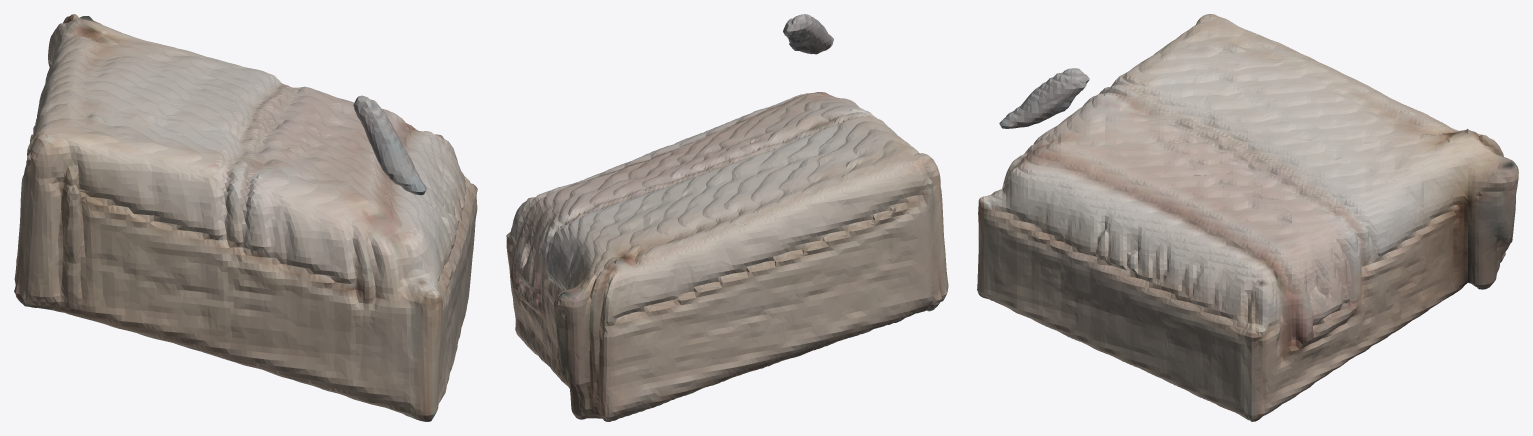
The model's file is asa-nx-queen-bed-with-hydraulic-strge.glb.
3 renders of one model, left to right at view 1: azimuth 30°, elevation 25°; view 2: azimuth 150°, elevation 25°; view 3: azimuth 270°, elevation 25°, orthographic. The views are drawn at different scales.
Visible parts, largest first — view 1: orient; view 2: orient; view 3: orient.
Part boxes in pixels (x1=…): orient: x1=14, y1=14, x2=477, y2=421; orient: x1=506, y1=14, x2=948, y2=421; orient: x1=977, y1=14, x2=1518, y2=421.
Bounding box in the file's own units: 1.7 × 1.15 × 2.08.
